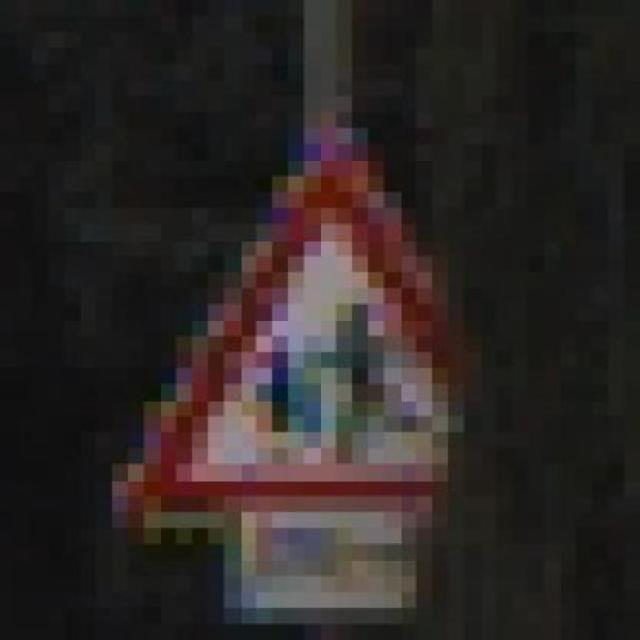Beware of children: (86, 125, 551, 524)
